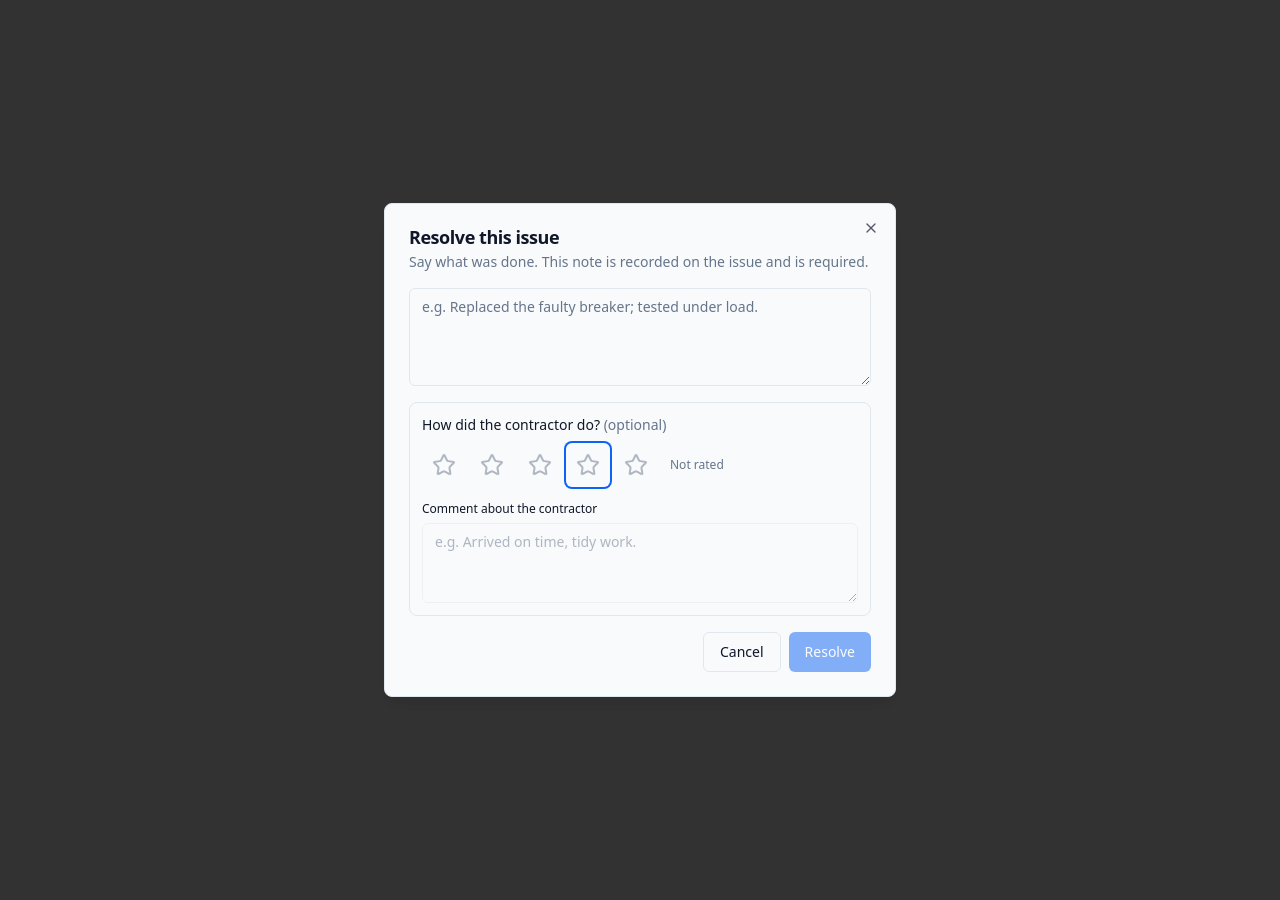
Scenario: ResolveIssueDialog › contractor rating › shows five 44px toggle stars that are real buttons (keyboard operable) with aria-pressed
The image size is (1280, 900).
Expected: the text "How did the contractor do? (optional)" is shown, [422,415,666,434]
Click the button named "4 stars — Very good" at (588, 465), box [566,443,610,487]
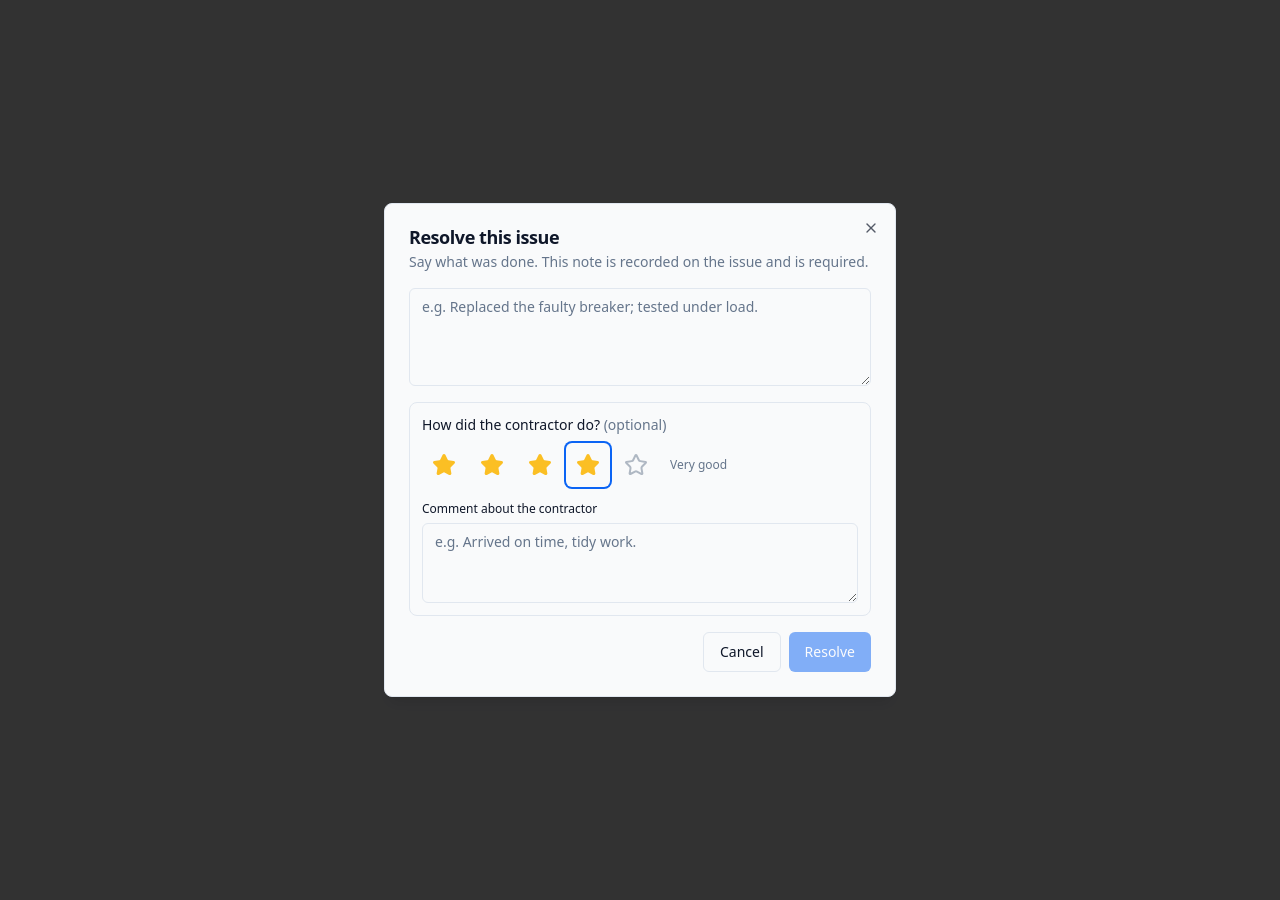
Now the text "Very good" is shown, box [670,457,727,473]
Note: Tapping the lit star again clears the rating.
Click the button named "4 stars — Very good" at (588, 465), box [566,443,610,487]
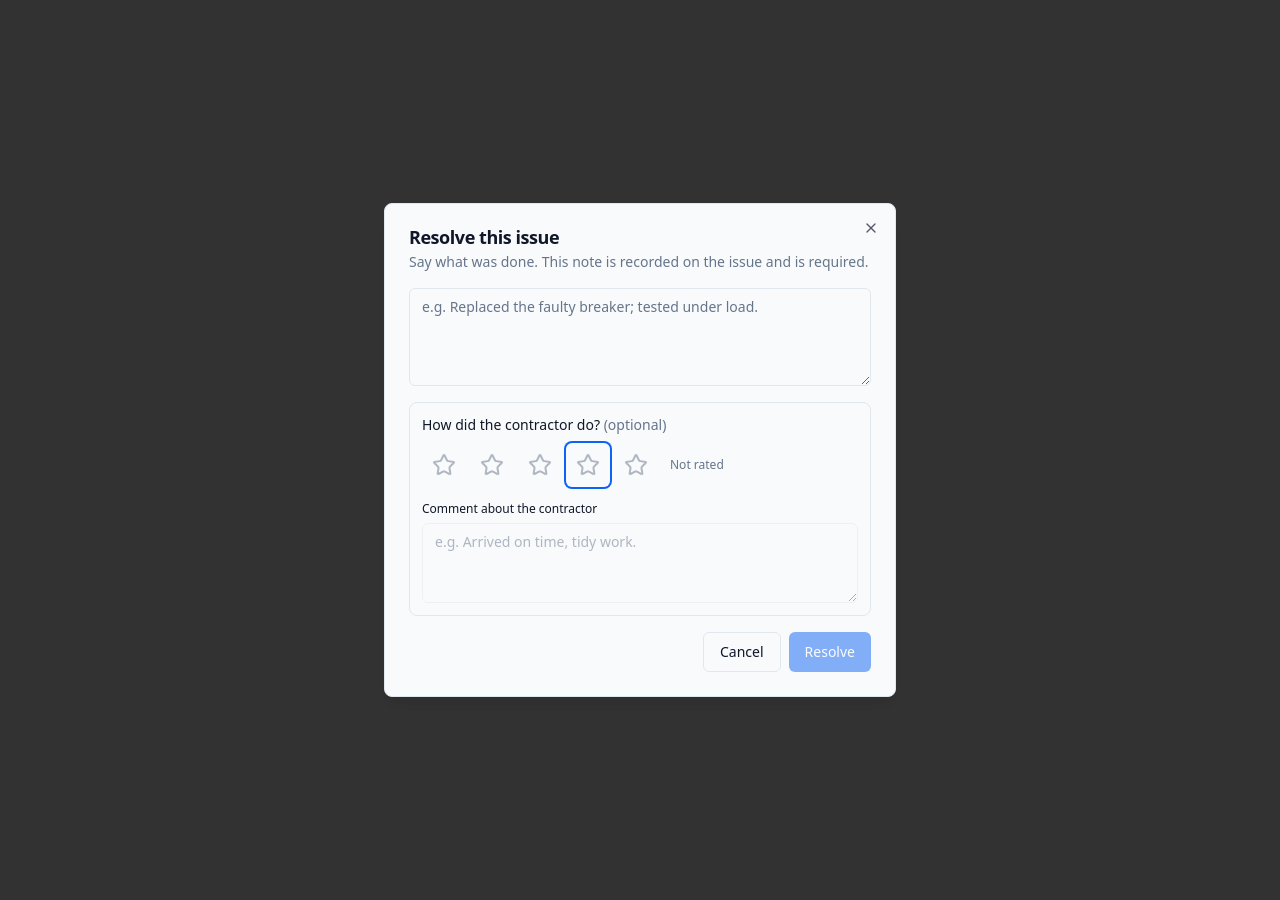
Now the text "Not rated" is shown, box [670,457,724,473]
